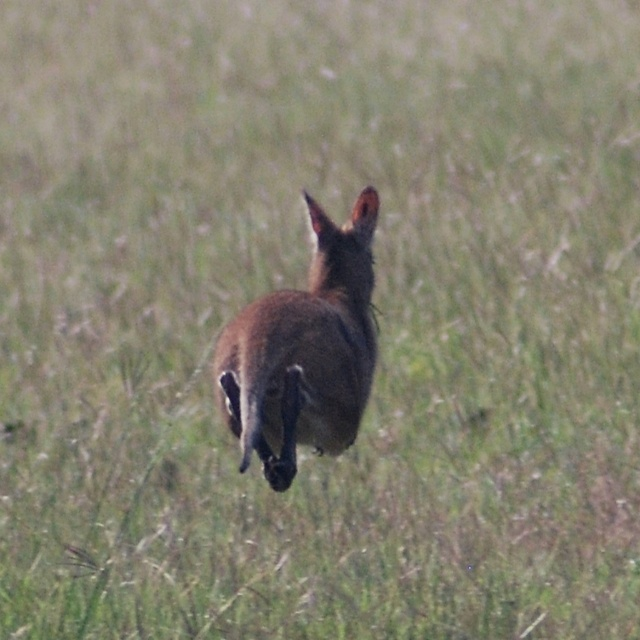Kangaroo: (215, 185, 385, 492)
